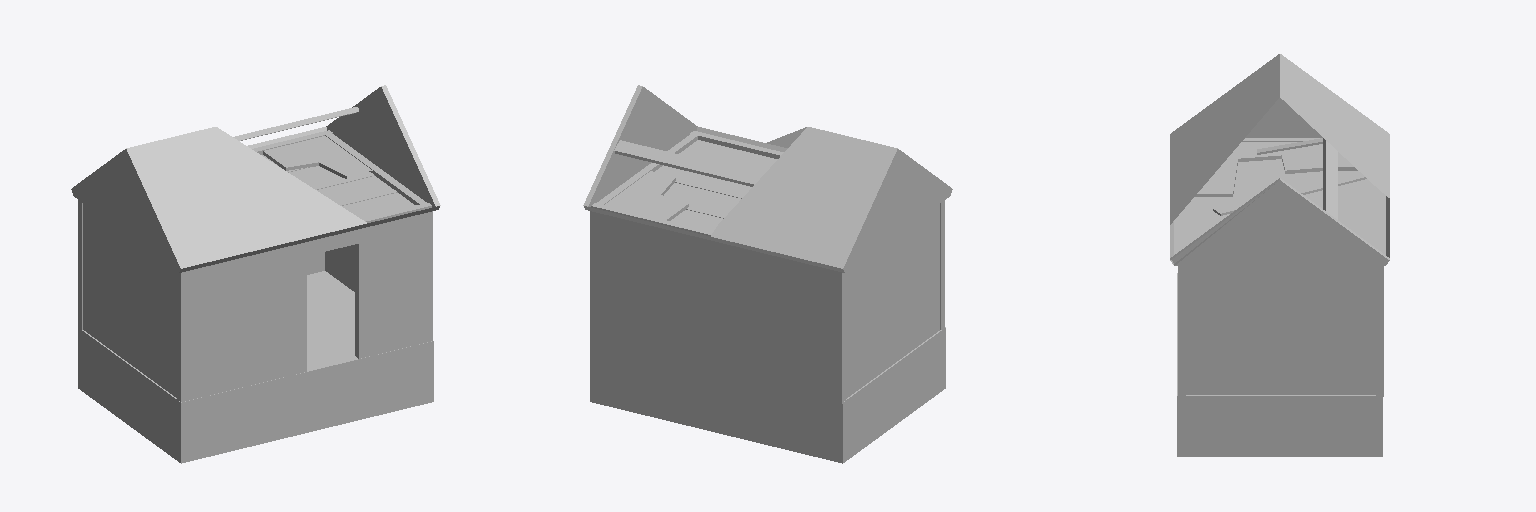
Rendered from shed.obj.
3 renders of one model, left to right at view 1: azimuth 30°, elevation 25°; view 2: azimuth 150°, elevation 25°; view 3: azimuth 270°, elevation 25°, orthographic.
Parts seen in each view (by area): view 1: Cube.001_Cube.003; view 2: Cube.001_Cube.003; view 3: Cube.001_Cube.003.
Part boxes in pixels (x1,y1,x2,y2): Cube.001_Cube.003: (71,85,440,463); Cube.001_Cube.003: (583,85,952,463); Cube.001_Cube.003: (1170,54,1389,456).
Size of the model in its own units: 5.18 by 5.3 by 3.78.